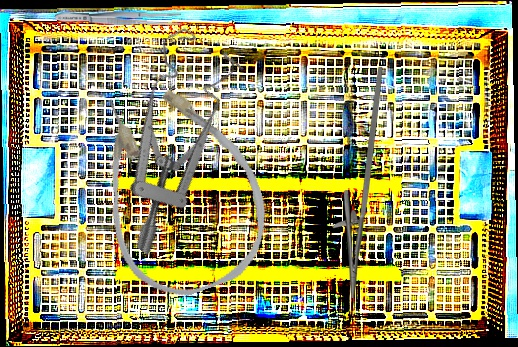Cannula: (71, 61, 286, 313)
Dressing Forceps: (54, 8, 182, 28)
Needle Holder: (332, 67, 384, 298)
Speculum: (52, 18, 279, 256)
